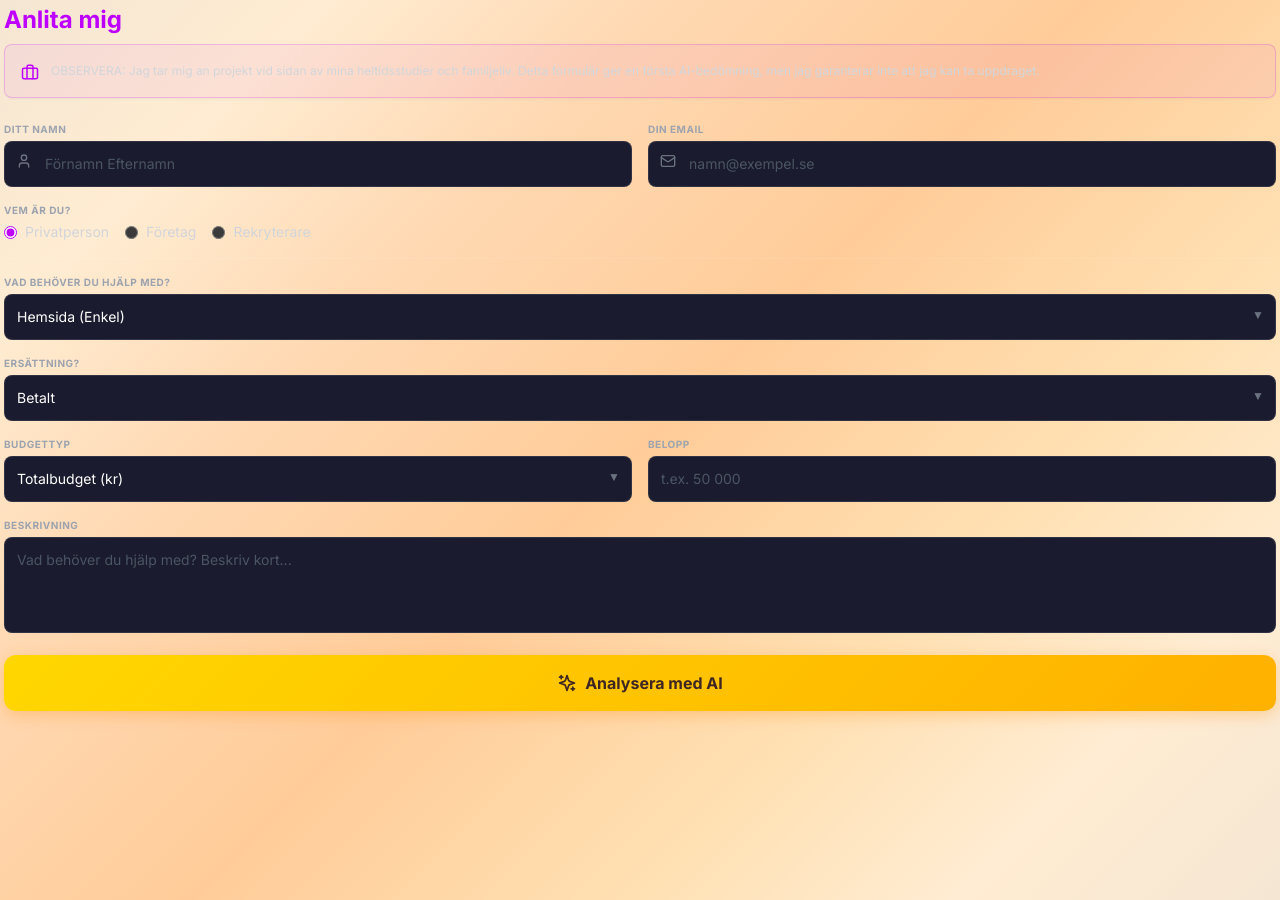
it: HireMe Component › Budget Type Selector › should switch to hourly placeholder when timpris selected
The width and height of the screenshot is (1280, 900).
Select "Timpris (kr/h)" in the dropdown below "BUDGETTYP": x=318, y=479 [4, 456, 632, 502]
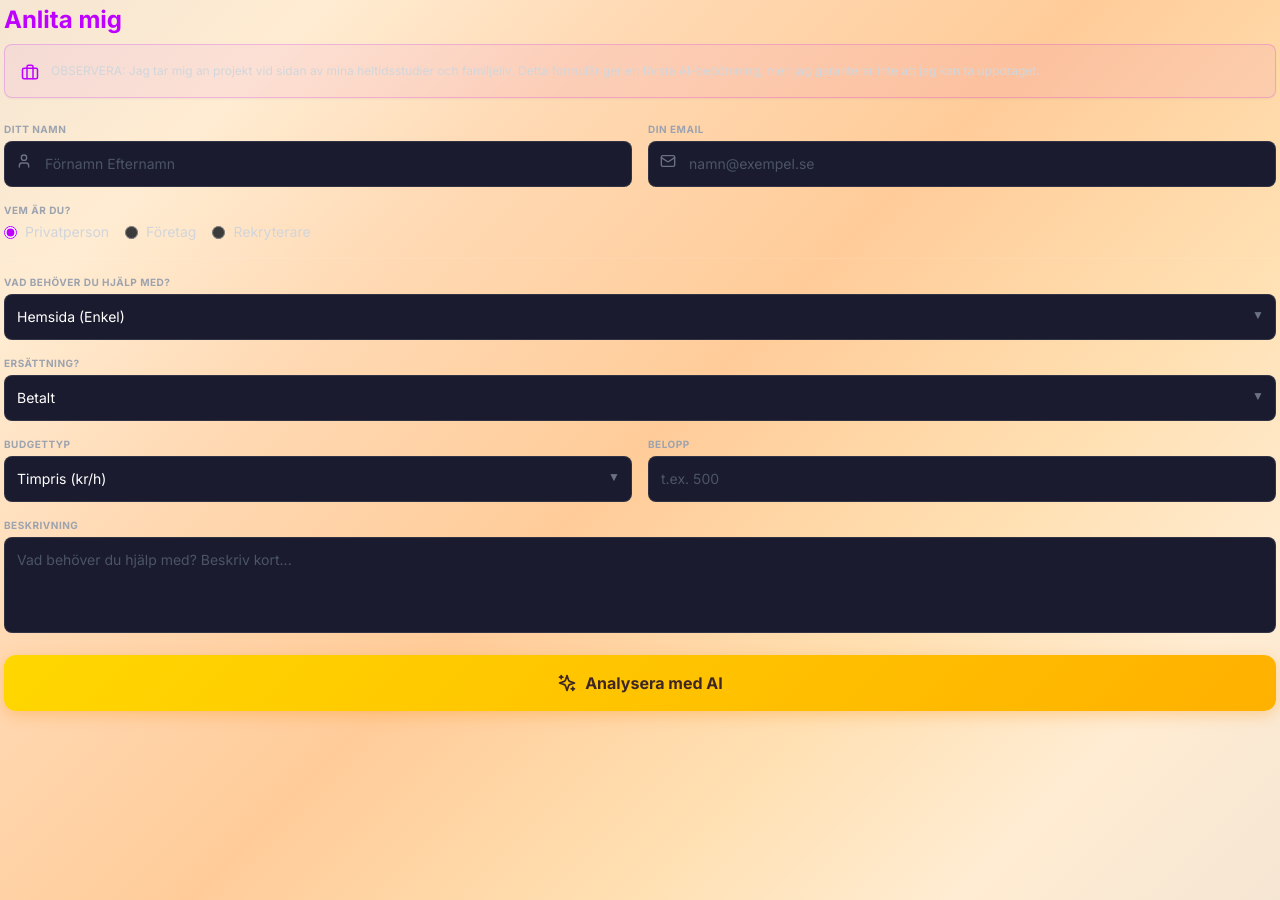
Result: the number field with placeholder "t.ex. 500" is shown at [648, 456, 1276, 502]
